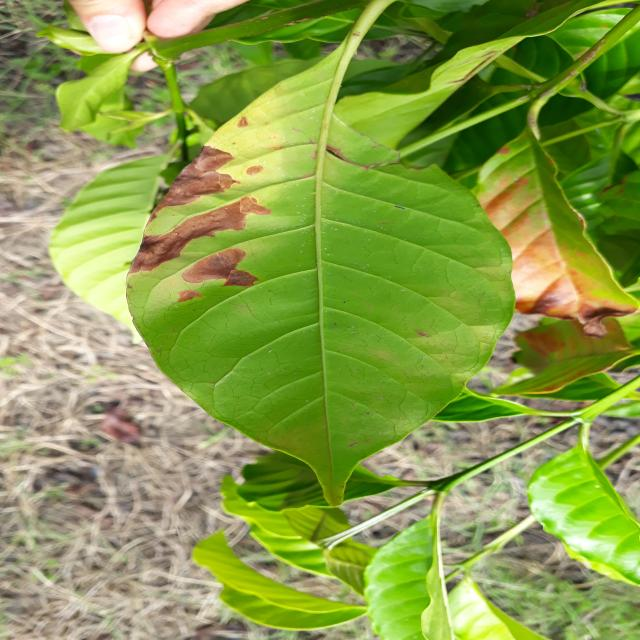Plaga-AranaRoja: (125, 13, 515, 508)
